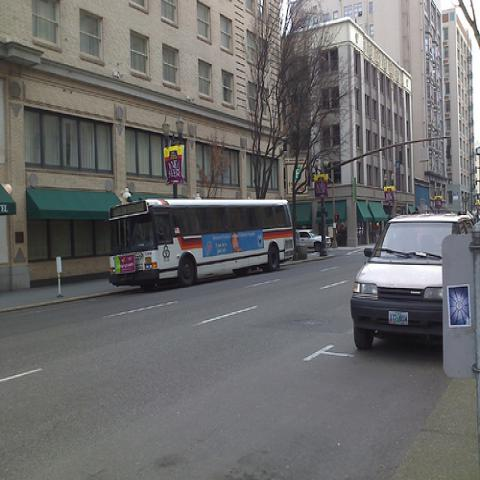bus: (108, 198, 294, 294)
truck: (351, 207, 478, 352), (296, 229, 331, 253)
